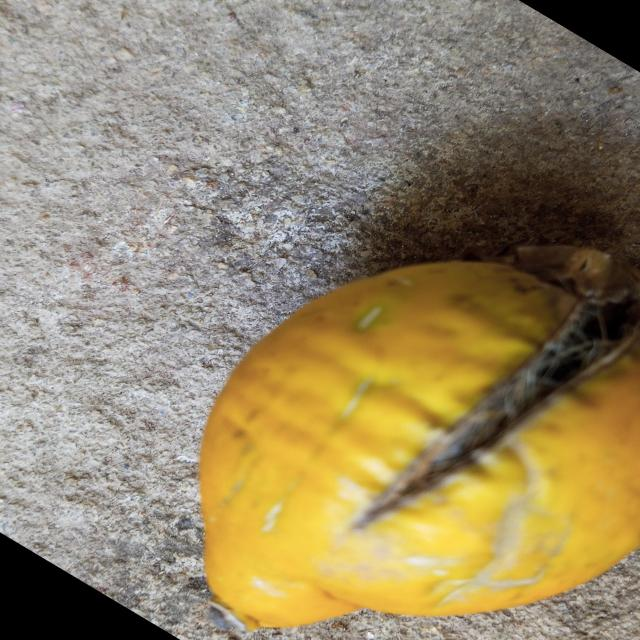damaged: (200, 262, 640, 630)
